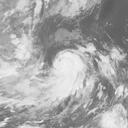cyclone: (52, 49, 87, 89)
